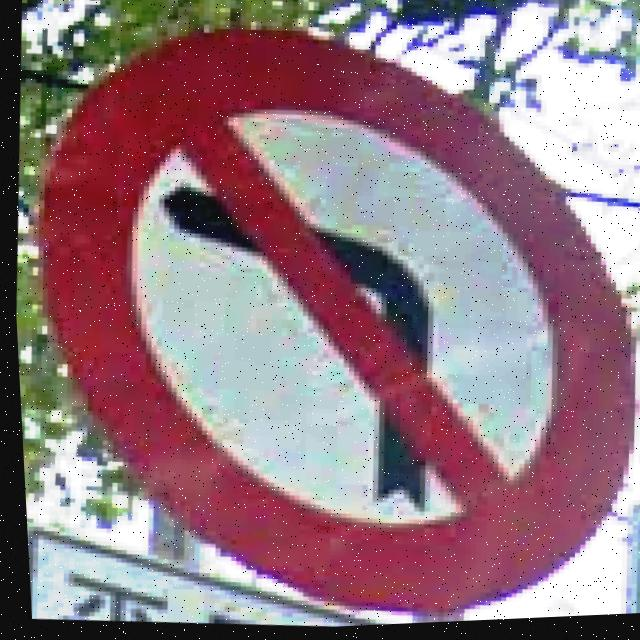noturnleft: (1, 0, 640, 640)
